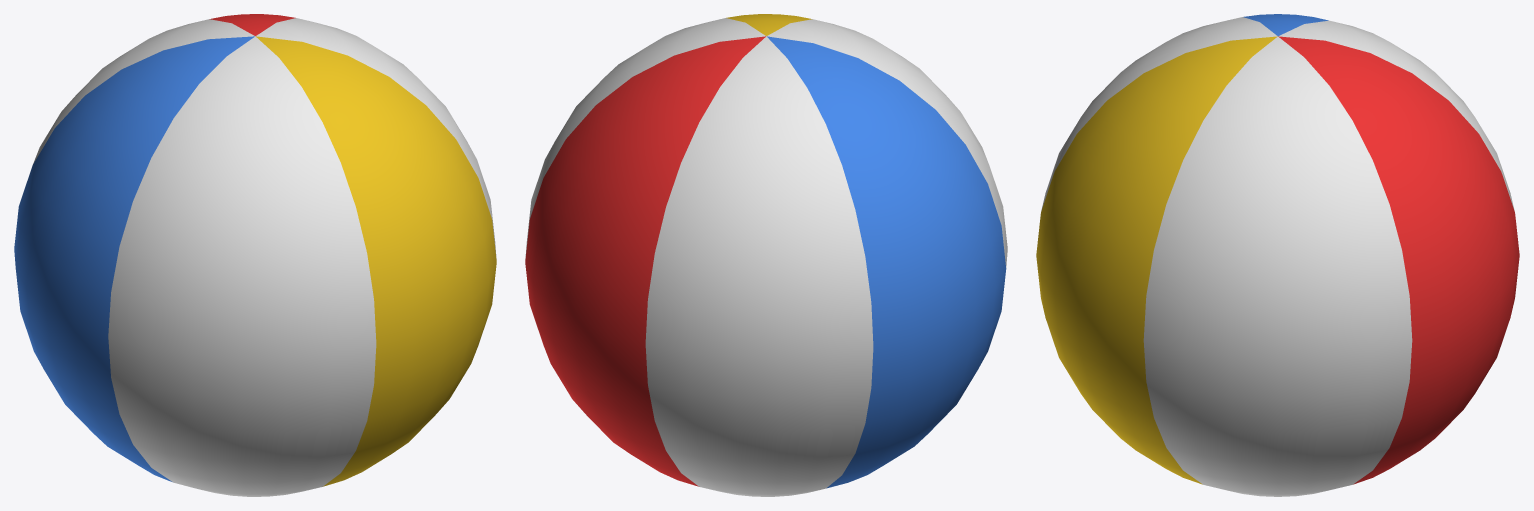
File: Ball.fbx
3 renders of one model, left to right at view 1: azimuth 30°, elevation 25°; view 2: azimuth 150°, elevation 25°; view 3: azimuth 270°, elevation 25°, orthographic.
Visible parts, largest first — view 1: Ball; view 2: Ball; view 3: Ball.
Part boxes in pixels (box(x1,y1,x2,y2)): Ball: box(14, 14, 496, 496); Ball: box(525, 14, 1007, 496); Ball: box(1036, 14, 1519, 496).
Bounding box in the file's own units: 70 × 70 × 70.
